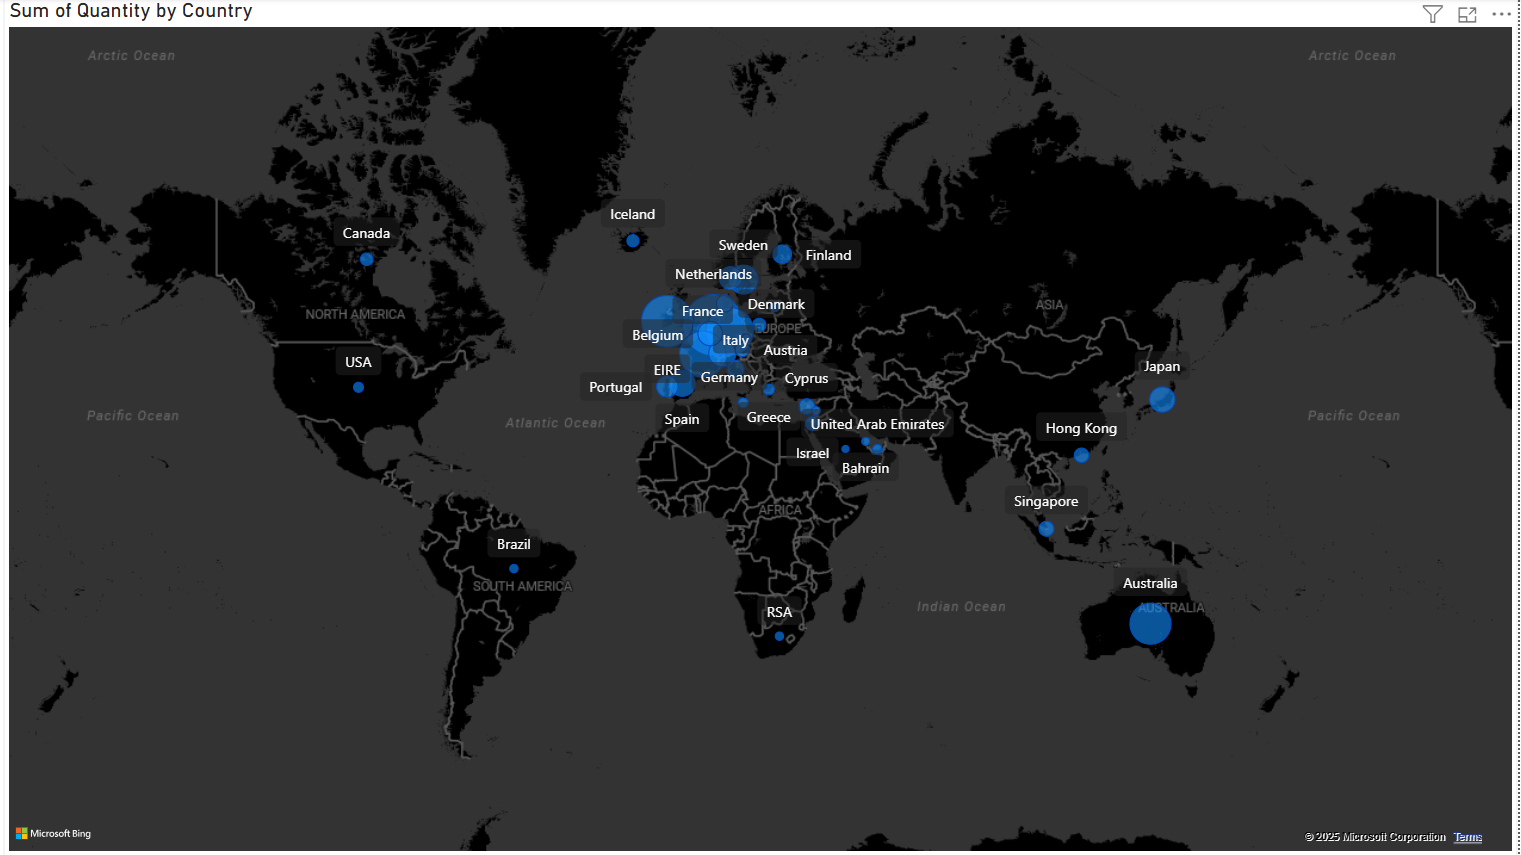

What the dashboard file says about the page in this screenshot:
{"tool":"powerbi","page":{"name":"Question 4","canvas":[1280,720],"ordinal":3},"visuals":[{"type":"map","fields":{"Category":["Online Retail.Country"],"Size":["Sum(Online Retail.Quantity)"]},"box":[10,0,1270,720],"z":0}]}

Visuals, with their boxes on the page's 1280x720 design canvas (x1, y1, x2, y2). These are canvas units, not pixel positions in the 1521x855 screenshot, which may show the page scaled, cropped or inside an application window:
map - Online Retail.Country x Sum(Online Retail.Quantity): 10:0:1280:720
